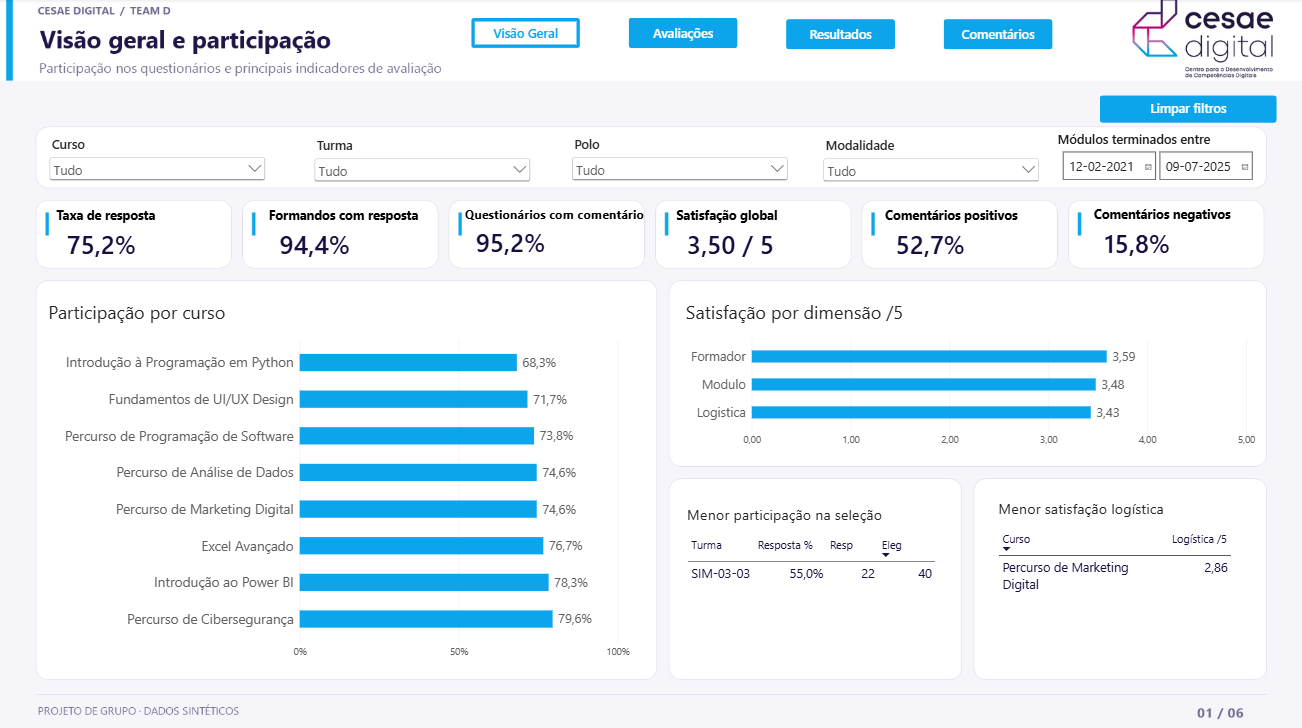

This screenshot's page, from the dashboard's own definition file:
{"tool":"powerbi","page":{"name":"Visão geral e participação","canvas":[1920,1080],"ordinal":0},"visuals":[{"type":"cardVisual","title":"Taxa de resposta","fields":{"Data":["_Medidas_FQuestionario.TaxaResposta"]},"box":[82.1,307,253,82],"z":0},{"type":"cardVisual","title":"Formandos com resposta","fields":{"Data":["_Medidas_FQuestionario.TaxaFormandosComResposta"]},"box":[395.9,307,246.4,82.1],"z":1000},{"type":"cardVisual","title":"Questionários com comentário","fields":{"Data":["_Medidas_FSentimento.AdesaoComentarios"]},"box":[684.1,305.8,285.9,81.4],"z":2000},{"type":"cardVisual","title":"Satisfação global","fields":{"Data":["_Medidas_FSentimento.SatisfacaoTresDimensoes"]},"box":[995.2,307,253,82],"z":3000},{"type":"cardVisual","title":"Comentários positivos","fields":{"Data":["_Medidas_FSentimento.TaxaPositivos"]},"box":[1303.5,307,246.4,82.1],"z":4000},{"type":"cardVisual","title":"Comentários negativos","fields":{"Data":["_Medidas_FSentimento.TaxaNegativos"]},"box":[1610.6,305.7,246.4,82.1],"z":5000},{"type":"slicer","fields":{"Values":["dTurma.Curso"]},"box":[68.1,202.5,327,75],"z":6000},{"type":"slicer","fields":{"Values":["dTurma.Turma"]},"box":[459.2,205.2,327,75],"z":7000},{"type":"slicer","title":"Módulos terminados entre","fields":{"Values":["dCalendario.Data"]},"box":[1557,195,300.4,85],"z":8000},{"type":"slicer","fields":{"Values":["dTurma.Polo_CESAE"]},"box":[837.1,203.2,327,75],"z":9000},{"type":"slicer","fields":{"Values":["dTurma.Modalidade"]},"box":[1206.6,205.2,327,75],"z":10000},{"type":"clusteredBarChart","title":"Participação por curso","fields":{"Category":["dTurma.Curso","dTurma.Turma"],"Y":["_Medidas_FQuestionario.TaxaResposta"]},"box":[56,428,888,564],"z":11000},{"type":"clusteredBarChart","title":"Satisfação por dimensão /5","fields":{"Category":["fSentimento.Dimensao"],"Y":["_Medidas_FSentimento.SatisfacaoMedia"]},"box":[994,428.8,870,252],"z":12000},{"type":"tableEx","title":"Menor participação na seleção","fields":{"Values":["dTurma.Turma","_Medidas_FQuestionario.TaxaResposta","_Medidas_FQuestionario.Respondidos","_Medidas_FQuestionario.Elegiveis"]},"box":[995.7,730,424.3,234.3],"z":13000},{"type":"tableEx","title":"Menor satisfação logística","fields":{"Values":["dTurma.Curso","_Medidas_FSentimento.SatisfacaoLogistica"]},"box":[1454,722,410,270],"z":14000},{"type":"actionButton","box":[1620,144,260,40],"z":15000},{"type":"actionButton","box":[694.1,30,160,44],"z":16000},{"type":"actionButton","box":[926.3,30,160,44],"z":17000},{"type":"actionButton","box":[1158.2,30.8,160,44],"z":18000},{"type":"actionButton","box":[1389.8,30.8,160,44],"z":19000}]}

Visuals, with their boxes in screenshot pixels (x1, y1, x2, y2), scaled from the page's 1920x1080 canvas onto the 1302x728 screenshot:
"Taxa de resposta" cardVisual: locate(56, 207, 227, 262)
"Formandos com resposta" cardVisual: locate(268, 207, 436, 262)
"Questionários com comentário" cardVisual: locate(464, 206, 658, 261)
"Satisfação global" cardVisual: locate(675, 207, 846, 262)
"Comentários positivos" cardVisual: locate(884, 207, 1051, 262)
"Comentários negativos" cardVisual: locate(1092, 206, 1259, 261)
slicer - dTurma.Curso: locate(46, 136, 268, 187)
slicer - dTurma.Turma: locate(311, 138, 533, 189)
"Módulos terminados entre" slicer: locate(1056, 131, 1260, 189)
slicer - dTurma.Polo_CESAE: locate(568, 137, 789, 188)
slicer - dTurma.Modalidade: locate(818, 138, 1040, 189)
"Participação por curso" clusteredBarChart: locate(38, 289, 640, 669)
"Satisfação por dimensão /5" clusteredBarChart: locate(674, 289, 1264, 459)
"Menor participação na seleção" tableEx: locate(675, 492, 963, 650)
"Menor satisfação logística" tableEx: locate(986, 487, 1264, 669)
actionButton: locate(1099, 97, 1275, 124)
actionButton: locate(471, 20, 579, 50)
actionButton: locate(628, 20, 737, 50)
actionButton: locate(785, 21, 894, 50)
actionButton: locate(942, 21, 1051, 50)
